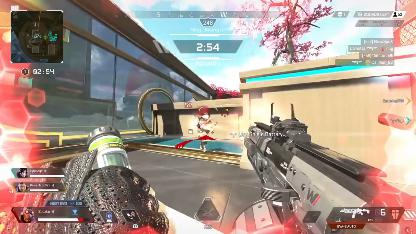Target: (197, 112, 215, 150)
